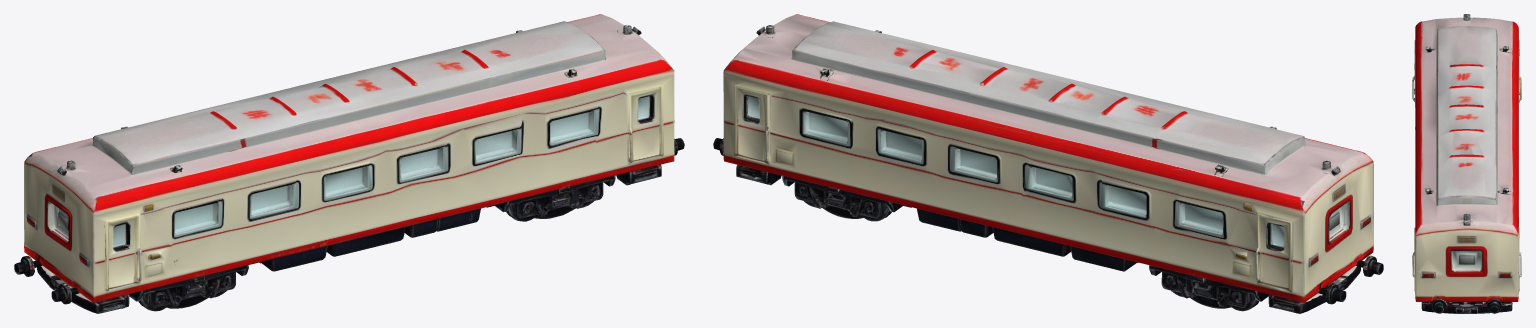
File: coach.glb
The picture shows the model from 3 angles, left to right: view 1: azimuth 30°, elevation 25°; view 2: azimuth 150°, elevation 25°; view 3: azimuth 270°, elevation 25°; orthographic projection. The views are drawn at different scales.
Parts seen in each view (by area): view 1: coach; view 2: coach; view 3: coach.
Boxes of the visible parts, x1=… form: coach: x1=14, y1=14, x2=684, y2=313; coach: x1=713, y1=14, x2=1383, y2=313; coach: x1=1412, y1=14, x2=1521, y2=313.
Bounding box in the file's own units: 4.12 × 1 × 0.8439.
1 material, 1 textured.
